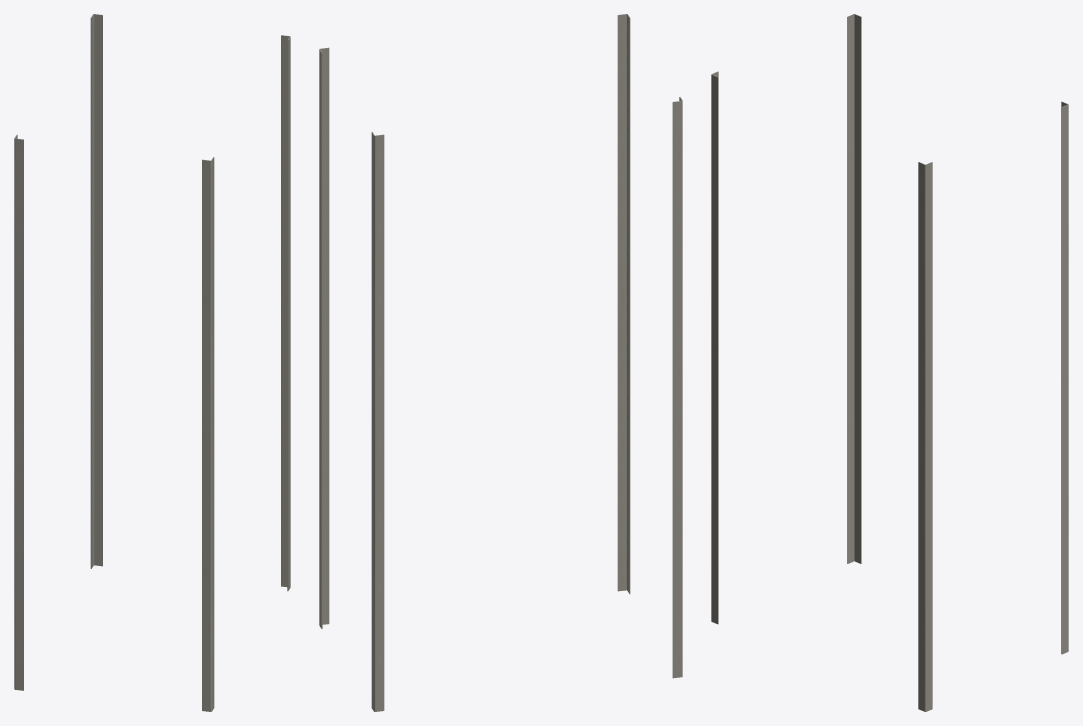
File: shelf_0301_t50_h1200_w600.glb
The picture shows the model from 3 angles, left to right: view 1: azimuth 30°, elevation 25°; view 2: azimuth 150°, elevation 25°; view 3: azimuth 270°, elevation 25°; orthographic projection. The views are drawn at different scales.
Visible parts, largest first — view 1: shelf_0301_t50_h1200_w600; view 2: shelf_0301_t50_h1200_w600; view 3: shelf_0301_t50_h1200_w600.
Part boxes in pixels (x1=…): shelf_0301_t50_h1200_w600: x1=14, y1=14, x2=290, y2=711; shelf_0301_t50_h1200_w600: x1=319, y1=14, x2=682, y2=711; shelf_0301_t50_h1200_w600: x1=711, y1=14, x2=1068, y2=711.
Bounding box in the file's own units: 0.7101 × 1.2 × 0.7101.
1 material, 1 textured.
